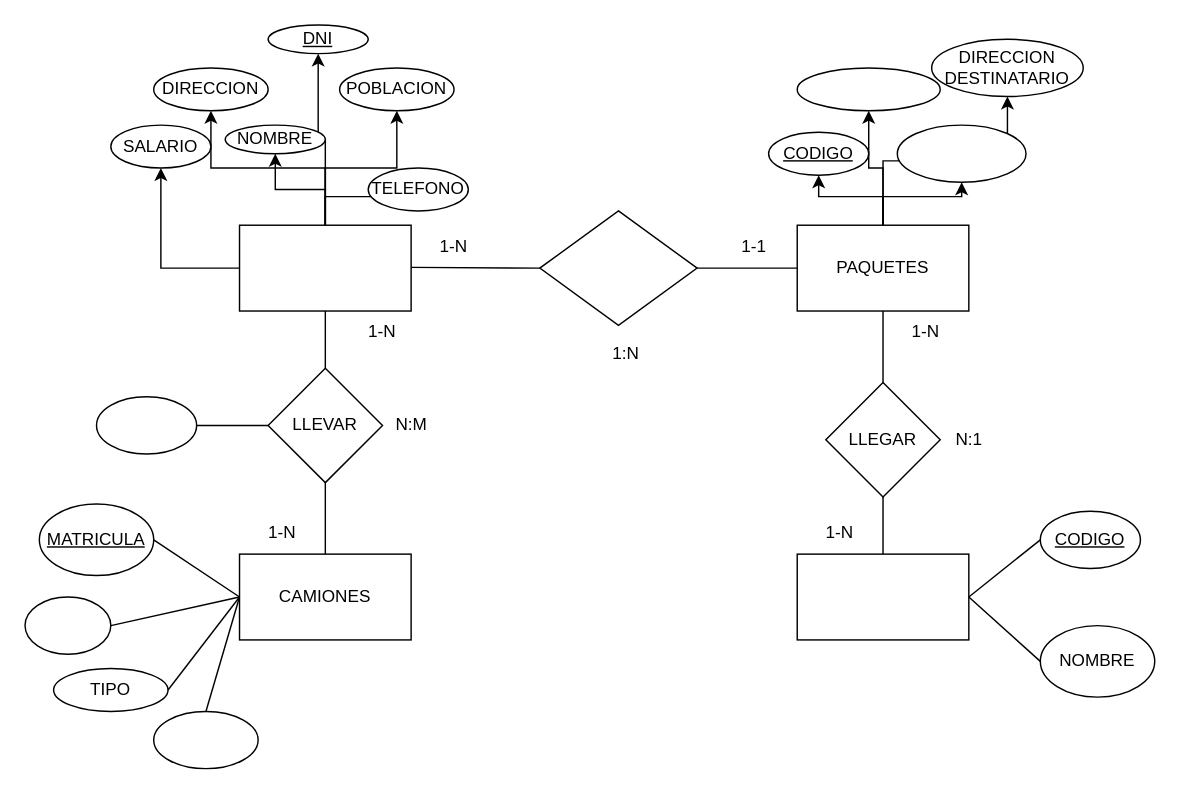
This 1180x794 diagram has some shape labels left out. The shapes that lost their labels are listed below. From the top down, each one's centre as x and y in pixels, then its label:
At (x=868, y=88): "DESTINATARIO".
At (x=961, y=153): "DESCRIPCION".
At (x=324, y=267): "CAMIONEROS".
At (x=617, y=267): "DISTRIBUIR".
At (x=146, y=424): "FECHA".
At (x=882, y=596): "PROVINCIAS".
At (x=67, y=625): "MODELO".
At (x=205, y=739): "POTENCIA".
